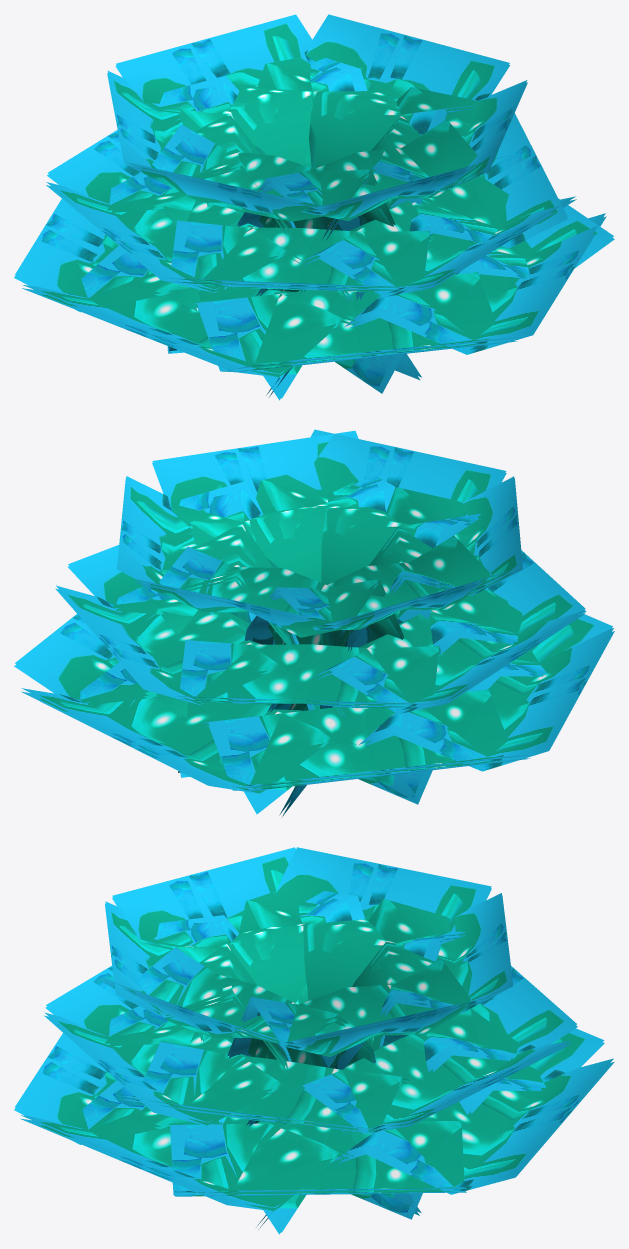
File: Plant_015.fbx
The picture shows the model from 3 angles, top to bottom: view 1: azimuth 30°, elevation 25°; view 2: azimuth 150°, elevation 25°; view 3: azimuth 270°, elevation 25°; orthographic projection.
Parts seen in each view (by area): view 1: Plant_015; view 2: Plant_015; view 3: Plant_015.
Boxes of the visible parts, box(x1,y1,x2,y2) form: Plant_015: box(14, 14, 614, 400); Plant_015: box(14, 429, 614, 816); Plant_015: box(14, 847, 614, 1234).
Bounding box in the file's own units: 584 × 253 × 591.
